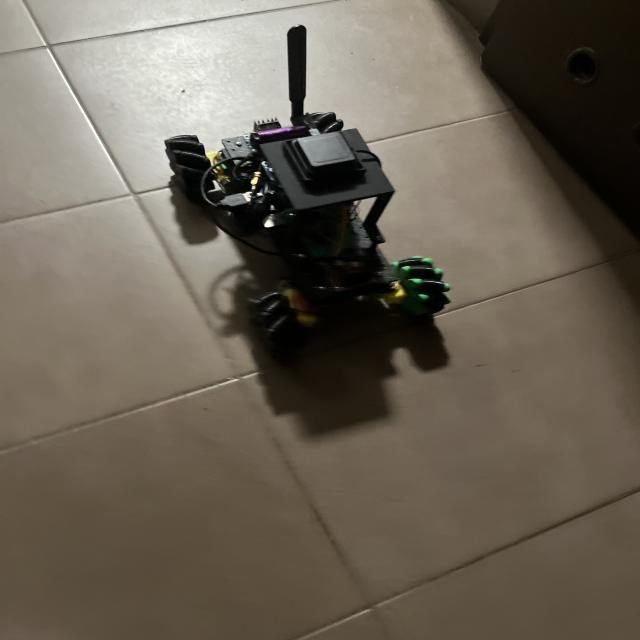robot: (165, 25, 450, 349)
